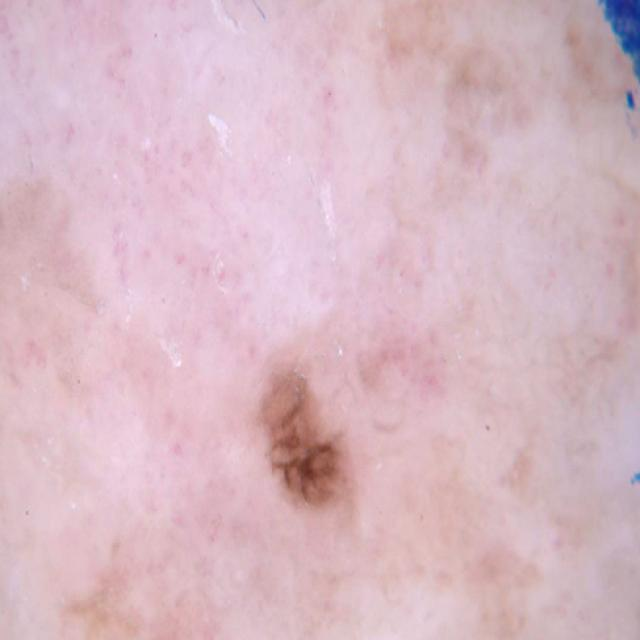Carcinoma: (237, 337, 426, 606)
